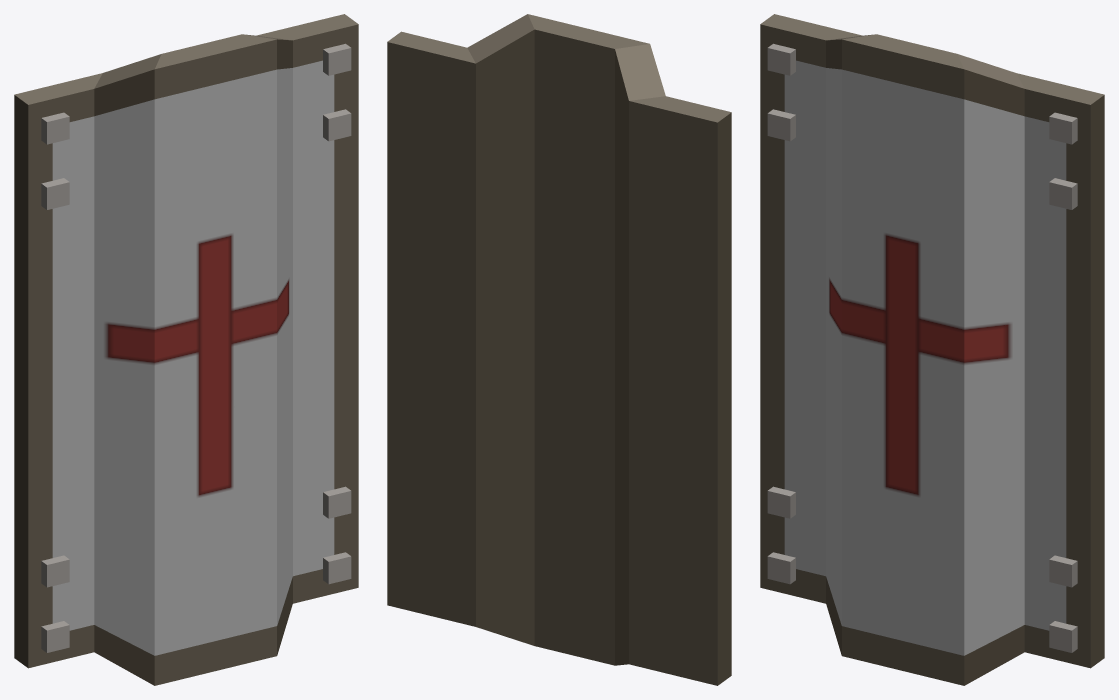
The model's file is SF_Wep_TowerShield_02.fbx.
3 renders of one model, left to right at view 1: azimuth 30°, elevation 25°; view 2: azimuth 150°, elevation 25°; view 3: azimuth 330°, elevation 25°, orthographic.
Visible parts, largest first — view 1: SF_Wep_TowerShield_02; view 2: SF_Wep_TowerShield_02; view 3: SF_Wep_TowerShield_02.
Boxes of the visible parts, left/top/right/bottom form: SF_Wep_TowerShield_02: left=14, top=14, right=358, bottom=685; SF_Wep_TowerShield_02: left=387, top=14, right=731, bottom=685; SF_Wep_TowerShield_02: left=760, top=14, right=1104, bottom=685.
Bounding box in the file's own units: 1.33 × 2.37 × 0.2542.
